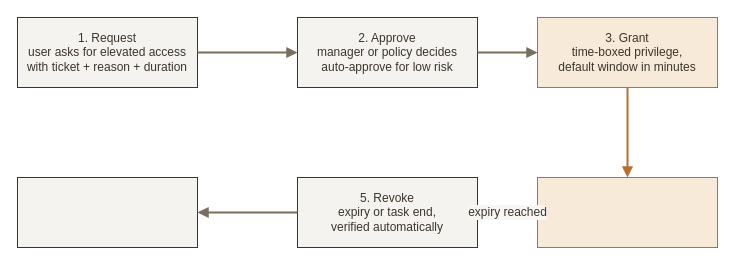
Image size: 735x265. Some labels were removed from this diagram. Each missing label, with the centre of its shape:
4. Use session is brokered, monitored, recorded: (627,212)
6. Audit request, approval, grant, use and revocation logged: (107,212)
